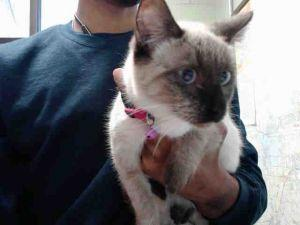siamese: (112, 1, 266, 136)
